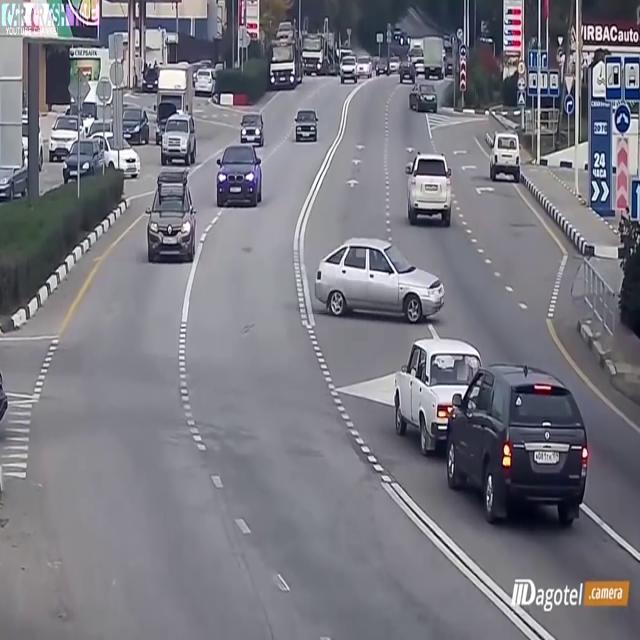accident: (385, 313, 598, 563)
